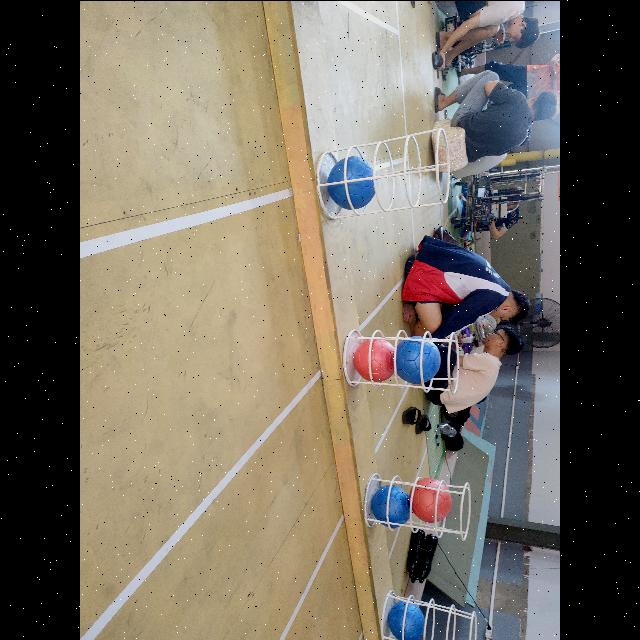B: (327, 154, 377, 208), (393, 335, 442, 383), (372, 483, 412, 527), (387, 600, 425, 640)
R: (408, 476, 452, 522), (354, 337, 394, 381)
